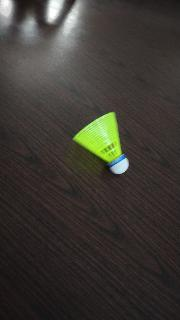shuttlecock: (72, 112, 128, 174)
